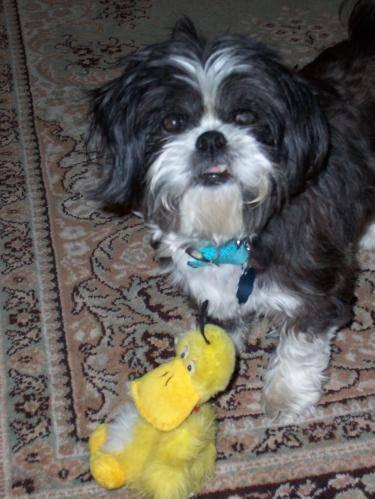dog: (87, 19, 374, 420)
